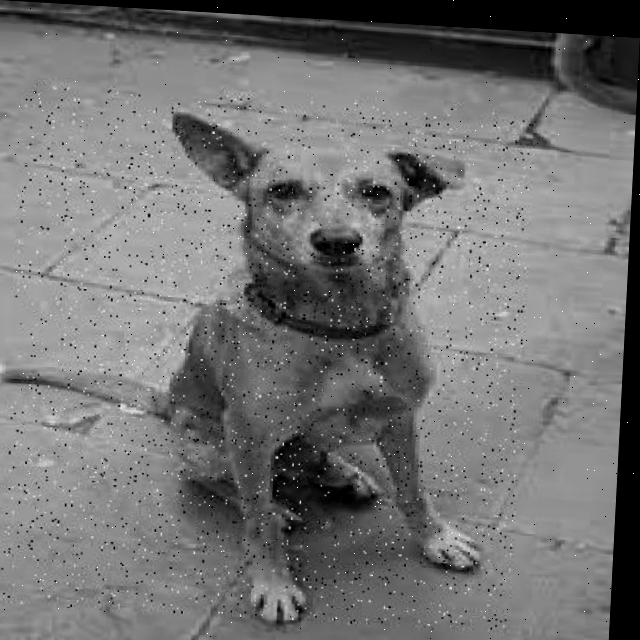Dog: (0, 84, 536, 635)
